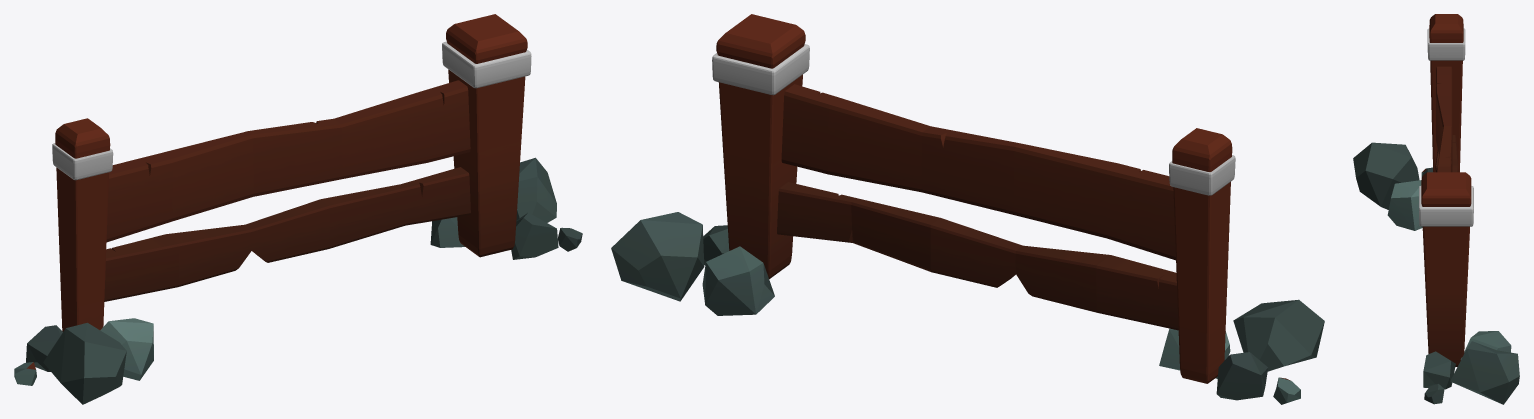
The model's file is GameJam3D_Barrier_Ok.fbx.
The picture shows the model from 3 angles, left to right: view 1: azimuth 30°, elevation 25°; view 2: azimuth 150°, elevation 25°; view 3: azimuth 270°, elevation 25°; orthographic projection. The views are drawn at different scales.
Parts seen in each view (by area): view 1: M_Barrier; view 2: M_Barrier; view 3: M_Barrier.
Part boxes in pixels (box(x1,y1,x2,y2)): M_Barrier: box(14, 14, 582, 404); M_Barrier: box(611, 14, 1324, 404); M_Barrier: box(1353, 14, 1519, 404).
Bounding box in the file's own units: 888 × 349 × 268.
